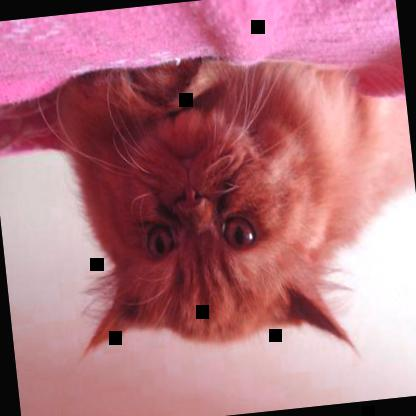cat: (54, 37, 415, 376)
